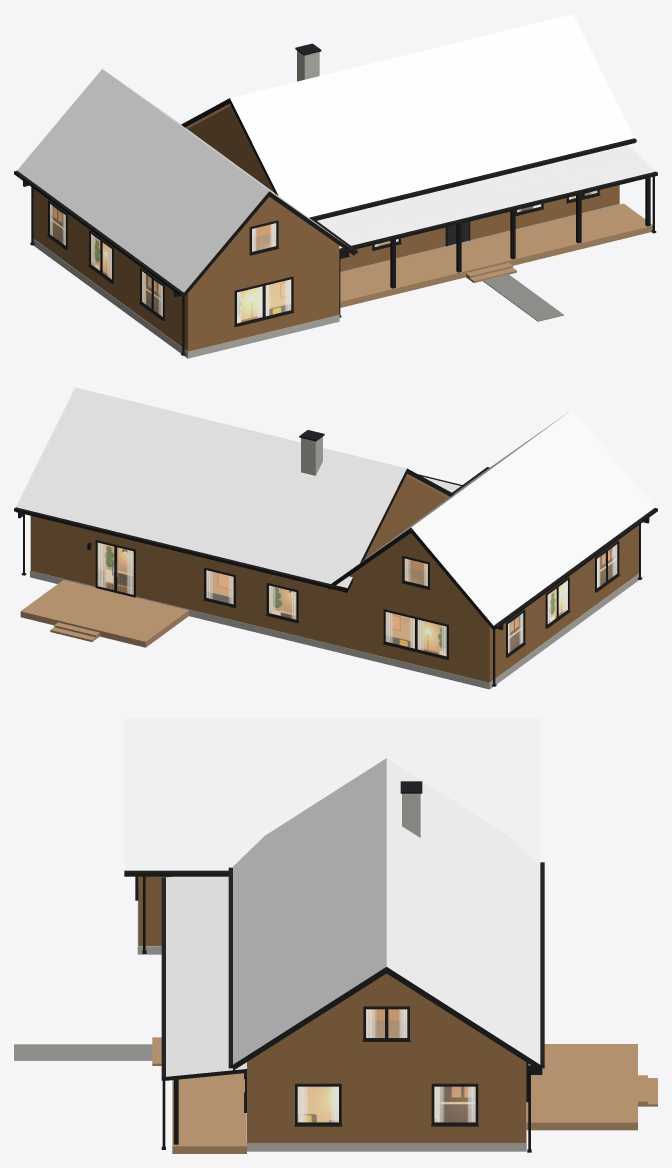
File: hobe222_c0_p0_m0.glb
3 views of the same model, one above another, from view 1: azimuth 30°, elevation 25°; view 2: azimuth 150°, elevation 25°; view 3: azimuth 270°, elevation 25° (orthographic). The views are drawn at different scales.
Parts seen in each view (by area): view 1: roof, wall, deck, fascia, glass, room, plinth, frame, sheer, paving; view 2: roof, wall, deck, glass, room, fascia, plinth, frame, sheer; view 3: roof, wall, deck, fascia, glass, plinth, room, paving, frame, sheer.
Boxes of the visible parts, <box> form: roof: <box>17,14,655,292</box>; wall: <box>33,106,619,351</box>; deck: <box>340,203,652,307</box>; fascia: <box>14,98,657,355</box>; glass: <box>50,191,596,322</box>; room: <box>50,191,596,322</box>; plinth: <box>33,50,619,358</box>; frame: <box>47,190,600,326</box>; sheer: <box>50,190,597,323</box>; paving: <box>482,274,563,321</box>; roof: <box>16,387,654,625</box>; wall: <box>30,476,638,682</box>; deck: <box>20,580,188,647</box>; glass: <box>98,543,616,655</box>; room: <box>98,543,616,655</box>; fascia: <box>14,467,657,686</box>; plinth: <box>30,437,638,689</box>; frame: <box>95,540,620,659</box>; sheer: <box>97,542,617,655</box>; roof: <box>124,718,540,1076</box>; wall: <box>138,876,526,1142</box>; deck: <box>152,1037,657,1153</box>; fascia: <box>124,862,544,1152</box>; glass: <box>298,1010,474,1121</box>; plinth: <box>137,793,526,1151</box>; room: <box>298,1009,474,1122</box>; paving: <box>14,1044,152,1060</box>; frame: <box>135,876,528,1126</box>; sheer: <box>297,1009,475,1122</box>.
Size of the model in its own units: 23.04 by 7.67 by 20.74.
16 materials, 6 textured.
